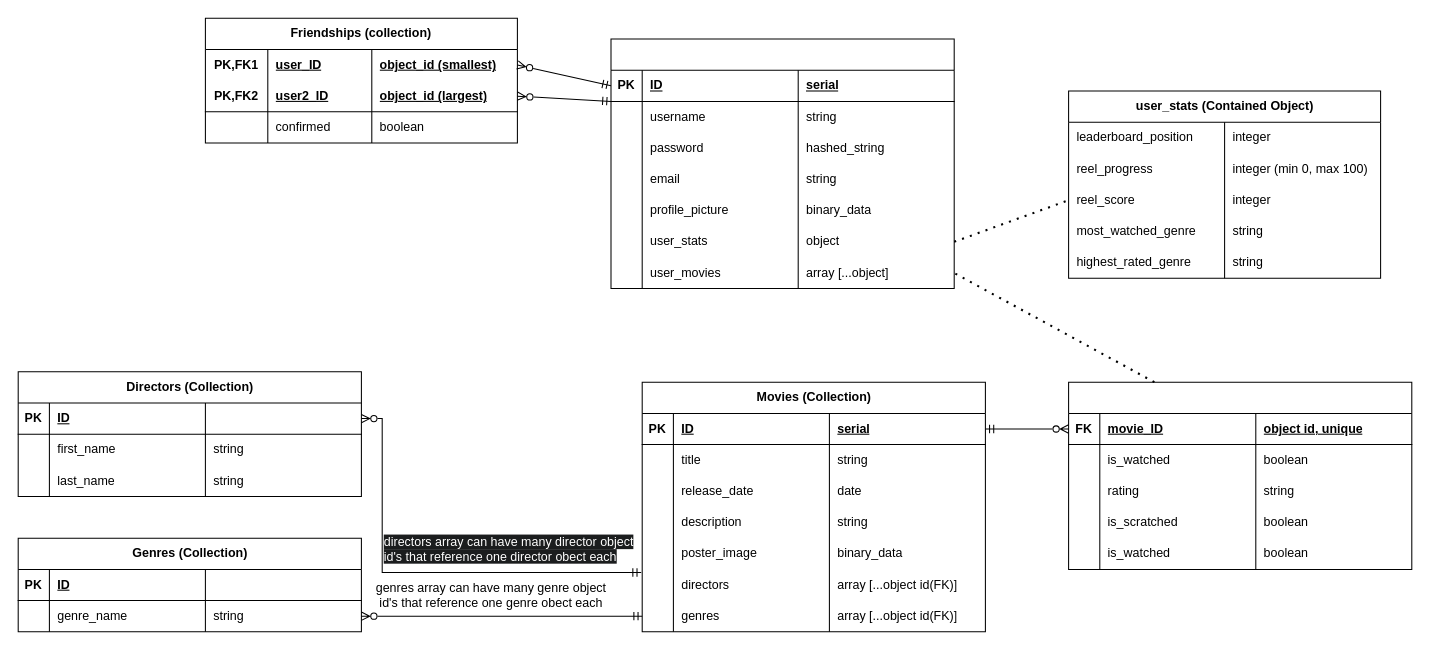
The diagram is 1430 pixels wide and 650 high, and some of its shapes have lost their labels. Each missing label, with the box of its shape:
user_movies (Embedded Array): (1068, 381, 1412, 569)
Users (Collection): (610, 38, 954, 289)
